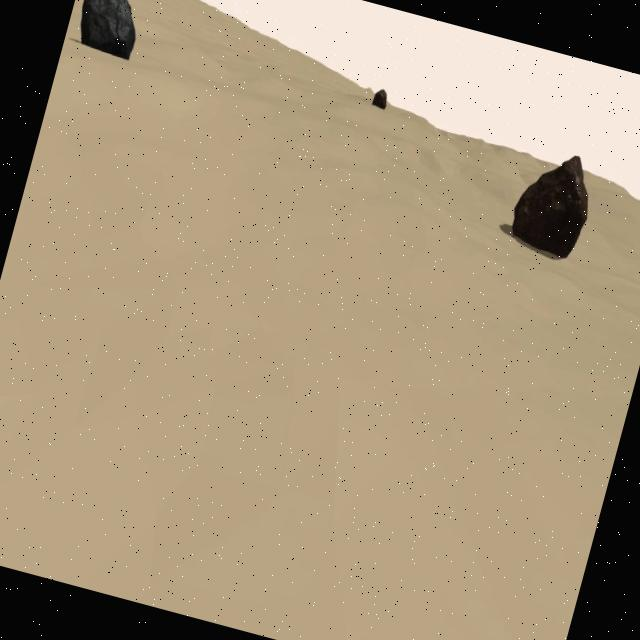rock: (503, 143, 601, 263), (70, 0, 147, 59), (372, 86, 389, 110)
